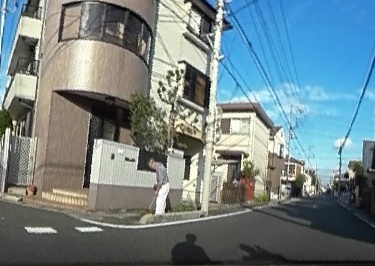person: (144, 155, 168, 215)
